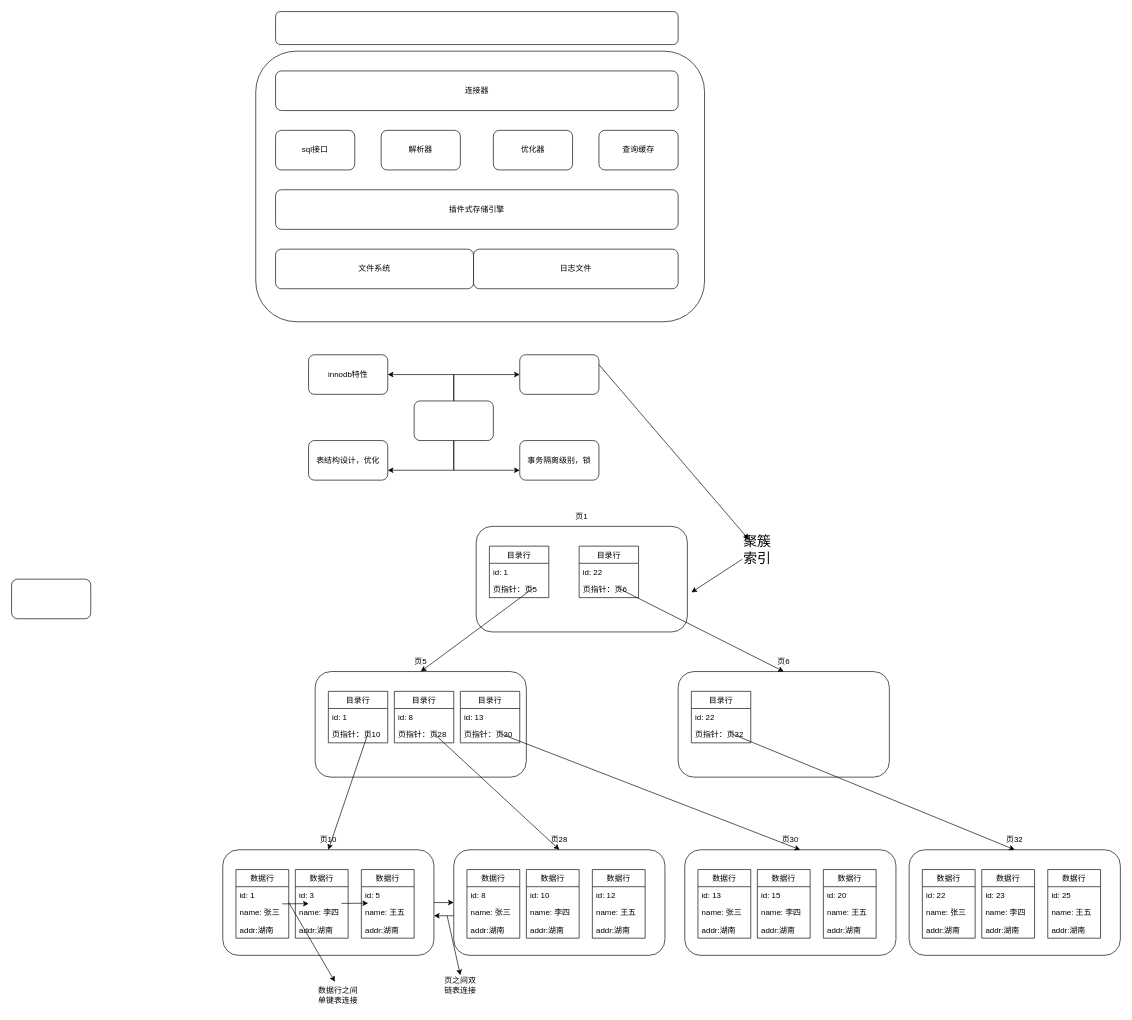
This 1132x1020 diagram has some shape labels left out. The centre of each missing label's shape, as x and y in pixels:
"mysql" goes at pixel 453 420.
"客户端" goes at pixel 476 28.
"索引" goes at pixel 559 374.
